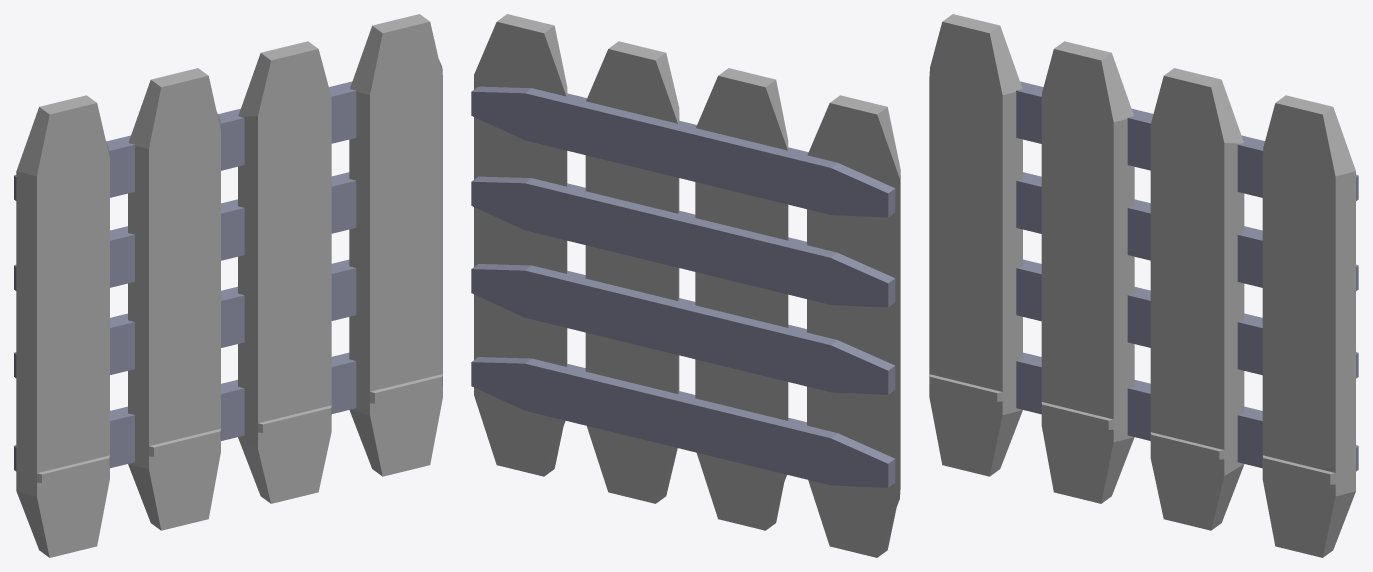
File: Wit TUINHEK.fbx
3 renders of one model, left to right at view 1: azimuth 30°, elevation 25°; view 2: azimuth 150°, elevation 25°; view 3: azimuth 330°, elevation 25°, orthographic.
Visible parts, largest first — view 1: Cube.001; view 2: Cube.001; view 3: Cube.001.
Boxes of the visible parts, left/top/right/bottom form: Cube.001: left=14, top=14, right=442, bottom=557; Cube.001: left=471, top=14, right=900, bottom=557; Cube.001: left=929, top=14, right=1358, bottom=557.
Bounding box in the file's own units: 2.01 × 2 × 0.1613.
